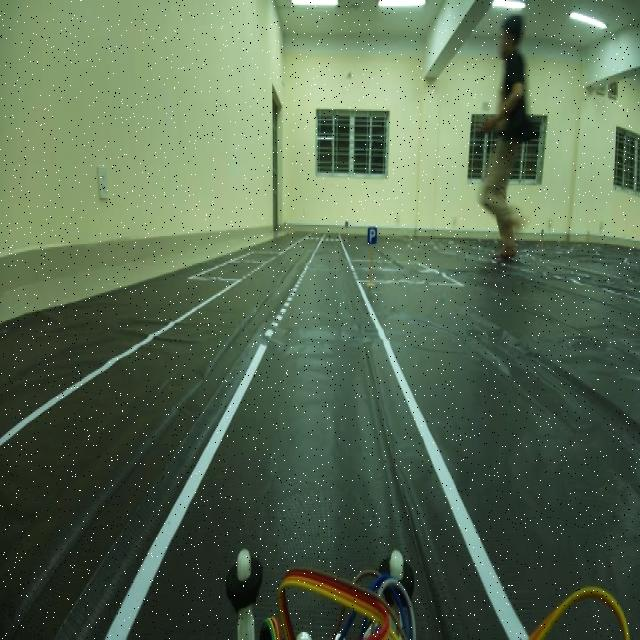parking: (364, 220, 382, 258)
